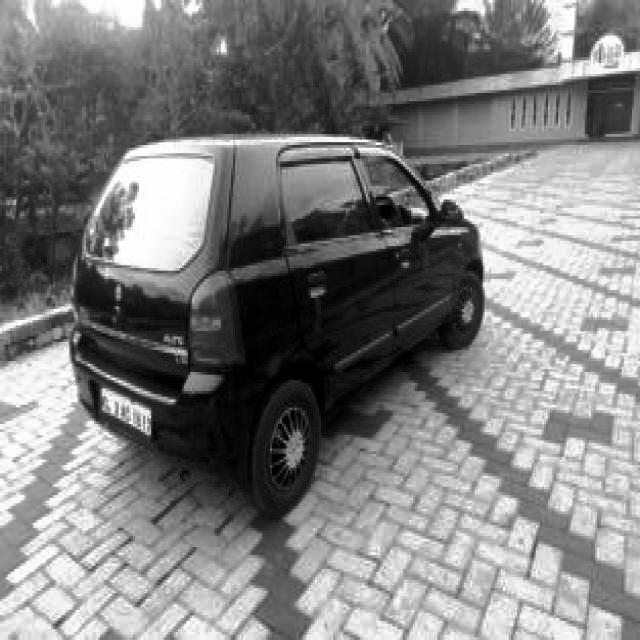Car: (79, 135, 485, 501)
